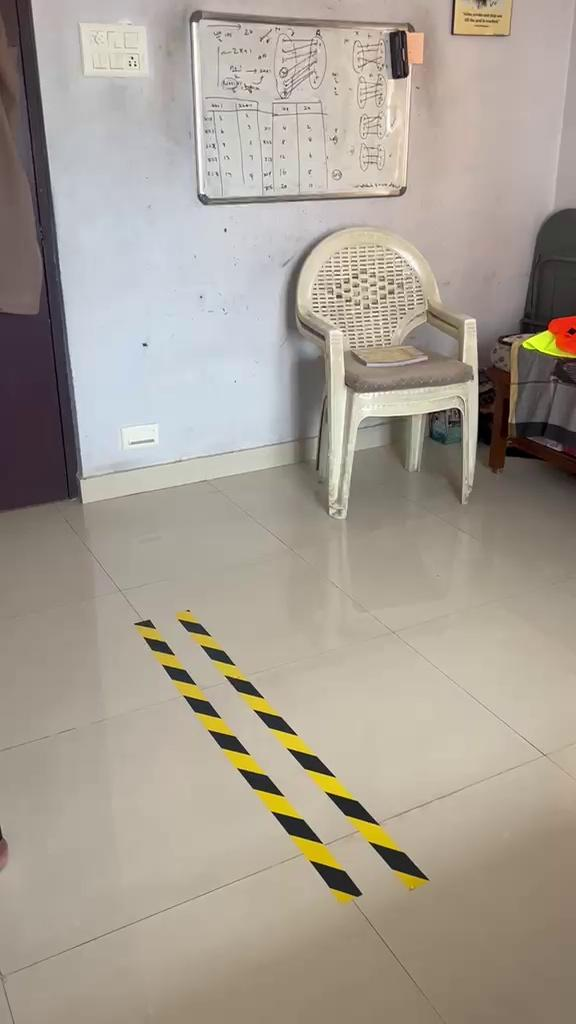BorderLine: (132, 609, 429, 903)
